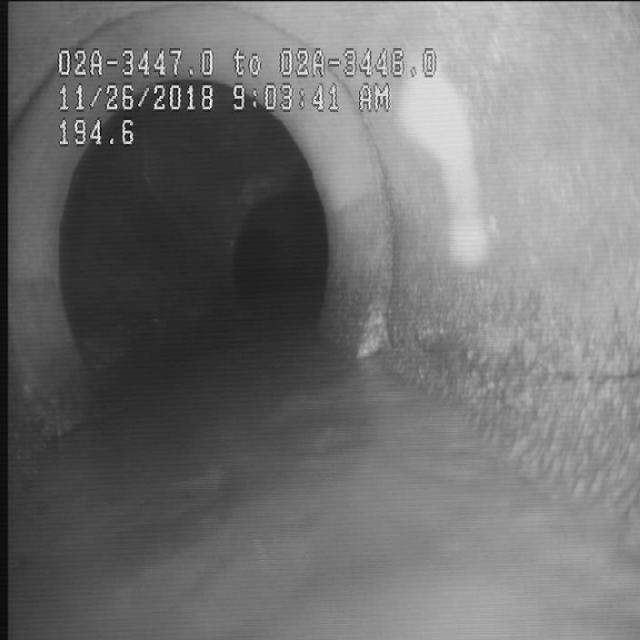Crack: (427, 318, 629, 410)
